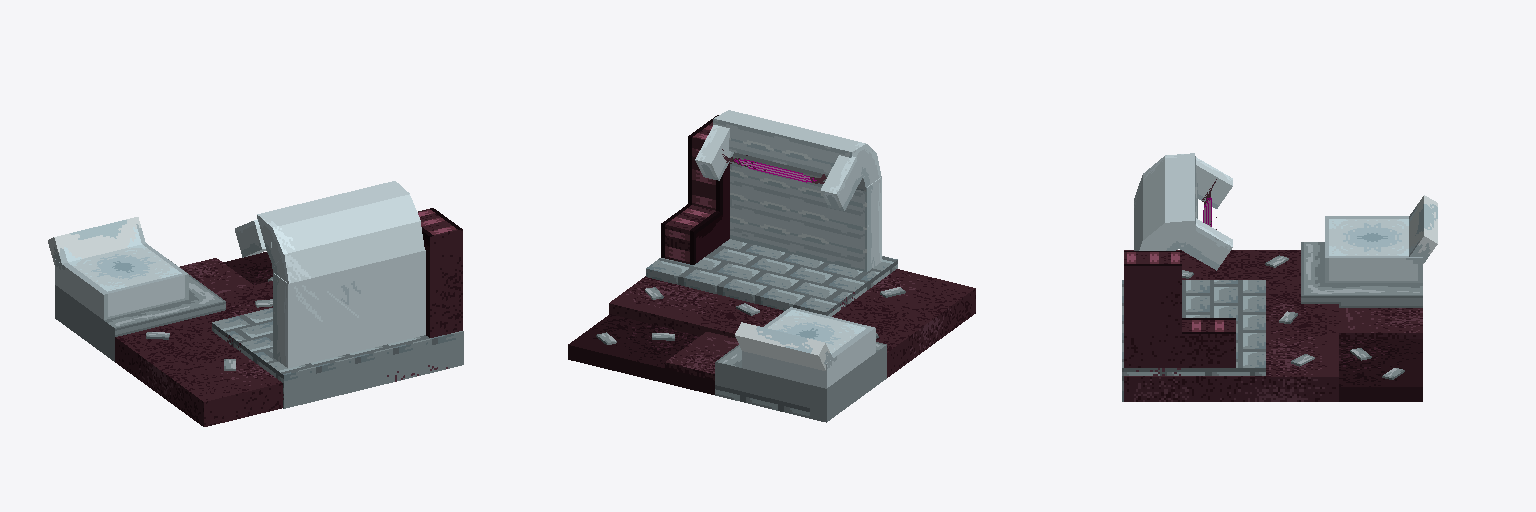
3 renders of one model, left to right at view 1: azimuth 30°, elevation 25°; view 2: azimuth 150°, elevation 25°; view 3: azimuth 270°, elevation 25°, orthographic.
Parts seen in each view (by area): view 1: cube; view 2: cube; view 3: cube.
Part boxes in pixels (left/top/right/bottom): cube: left=48, top=181, right=463, bottom=426; cube: left=568, top=110, right=975, bottom=422; cube: left=1122, top=153, right=1437, bottom=401.
Bounding box in the file's own units: 8.04 × 4.89 × 8.46.
1 materials, 1 textured.